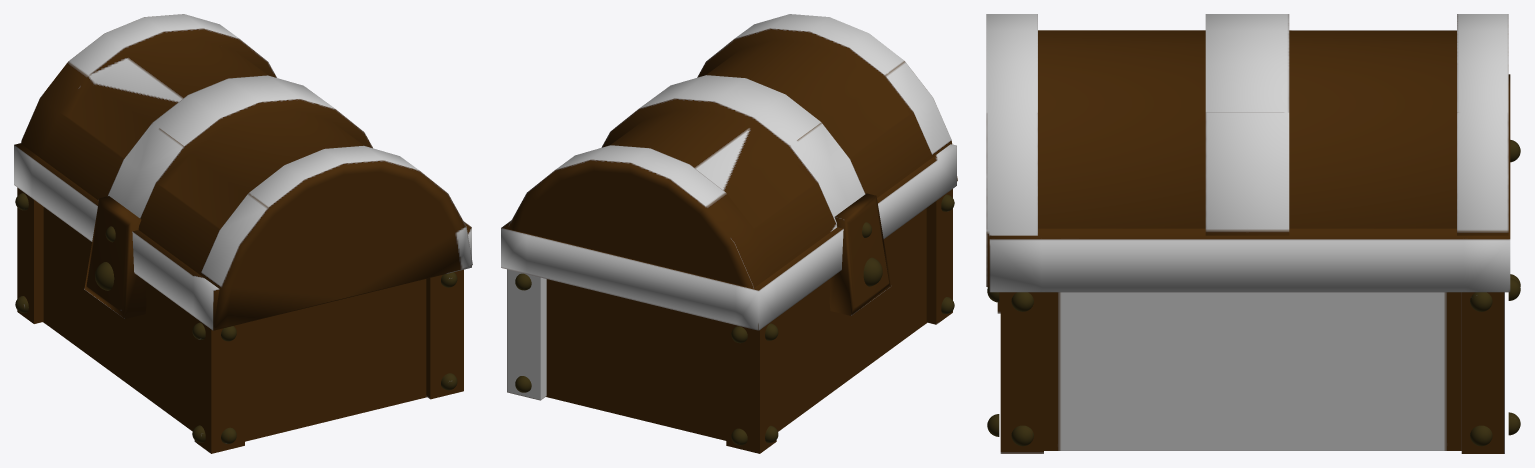
The model's file is chest_03.glb.
The picture shows the model from 3 angles, left to right: view 1: azimuth 30°, elevation 25°; view 2: azimuth 150°, elevation 25°; view 3: azimuth 270°, elevation 25°; orthographic projection. The views are drawn at different scales.
Visible parts, largest first — view 1: pCube10, pSphere19; view 2: pCube10, pSphere19; view 3: pCube10, pSphere19.
Part boxes in pixels (x1,y1,x2,y2): pCube10: (14, 14, 472, 330); pSphere19: (15, 187, 463, 453); pCube10: (501, 14, 957, 330); pSphere19: (507, 189, 954, 453); pCube10: (986, 14, 1510, 292); pSphere19: (987, 140, 1520, 453).
Bounding box in the file's own units: 0.0149 × 0.0135 × 0.0187.
1 material, 1 textured.
